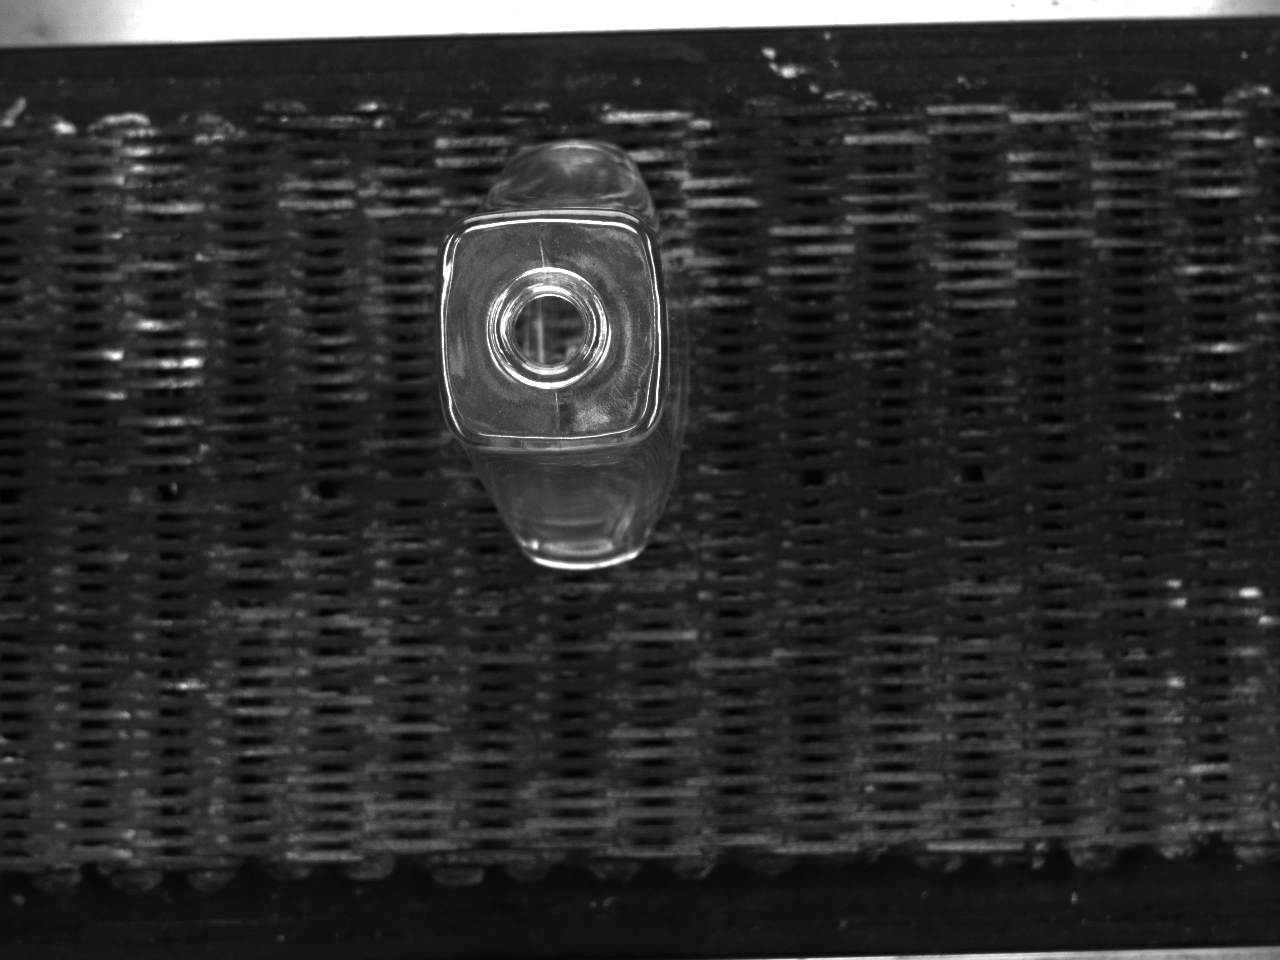bottleneck: (485, 267, 612, 389)
